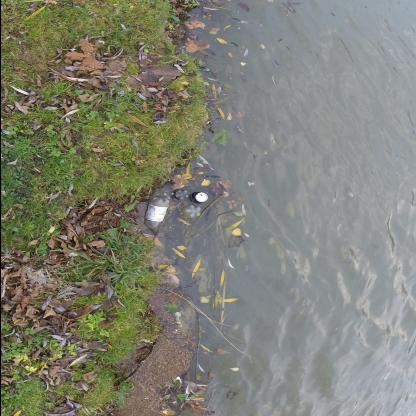metal: (190, 192, 207, 204)
plastik: (144, 196, 168, 230), (181, 204, 200, 219), (172, 188, 188, 200)
